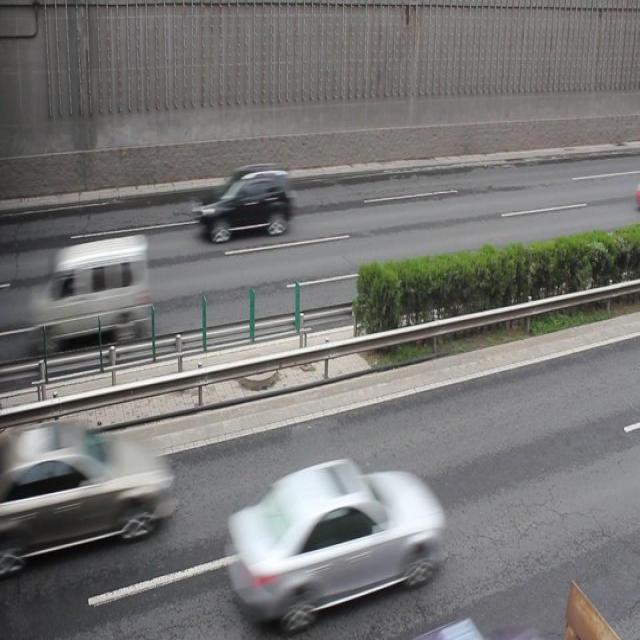car: (225, 452, 441, 624), (1, 413, 176, 568), (194, 160, 295, 242)
truck: (34, 231, 155, 340)
